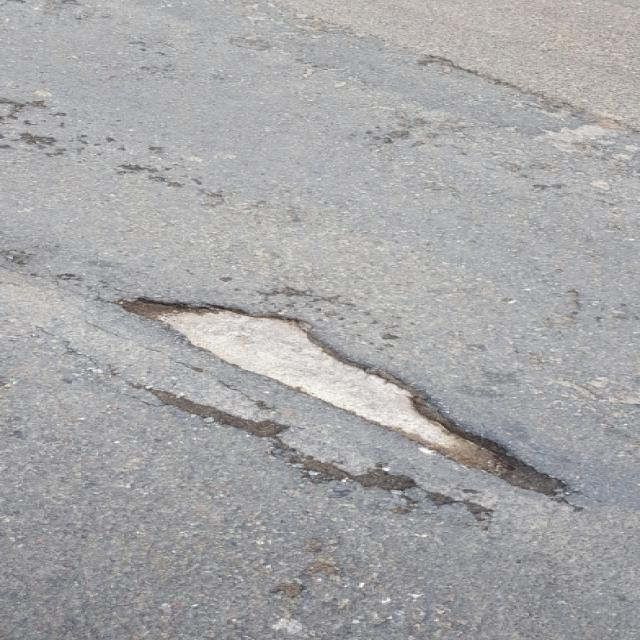Pothole: (104, 294, 597, 509)
